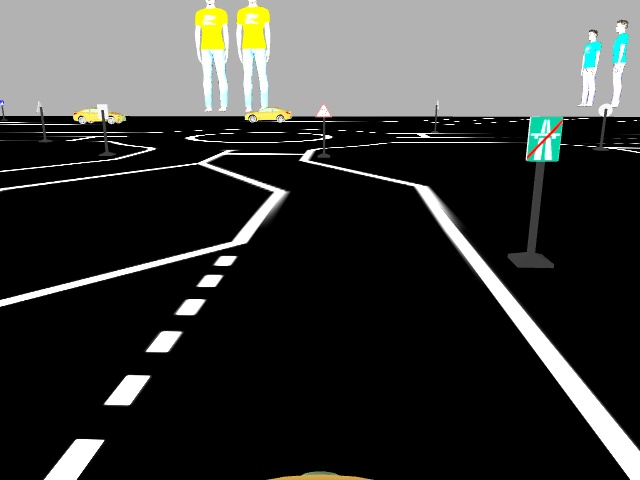HighwayExit: (525, 114, 562, 159)
